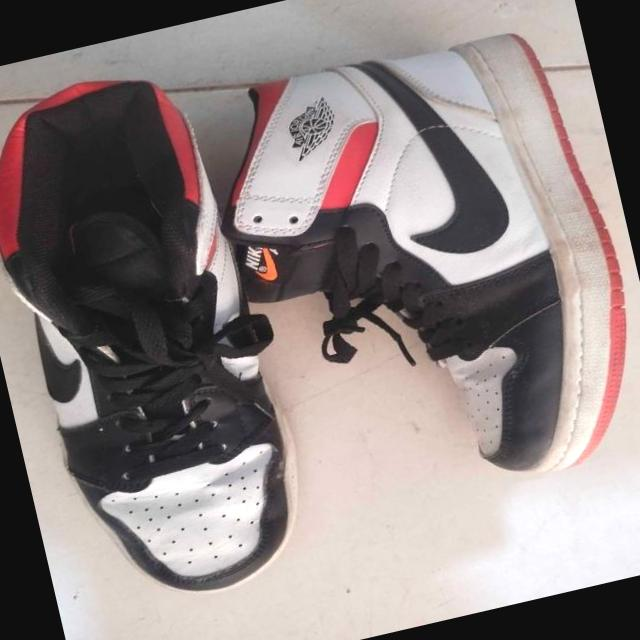nike_fake_jordan: (201, 9, 640, 531), (0, 48, 323, 621)
